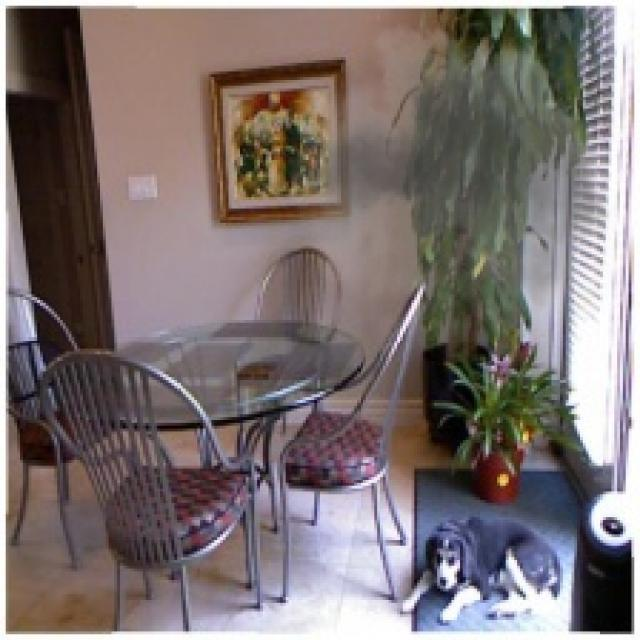Smoke: (288, 8, 632, 374)
